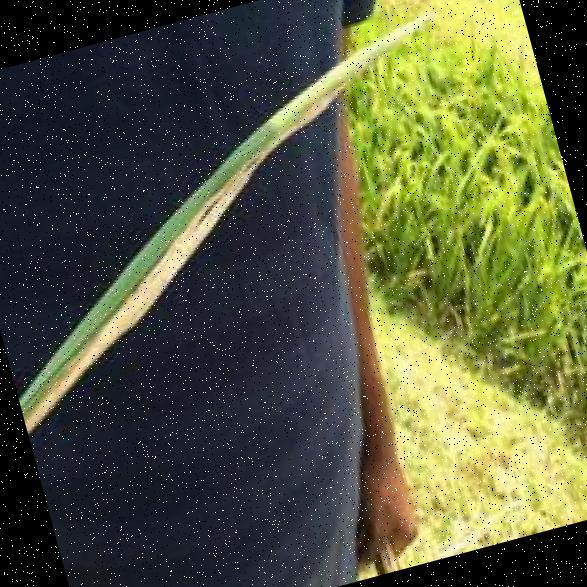Bacteria_Leaf_Blight: (0, 145, 320, 409)
